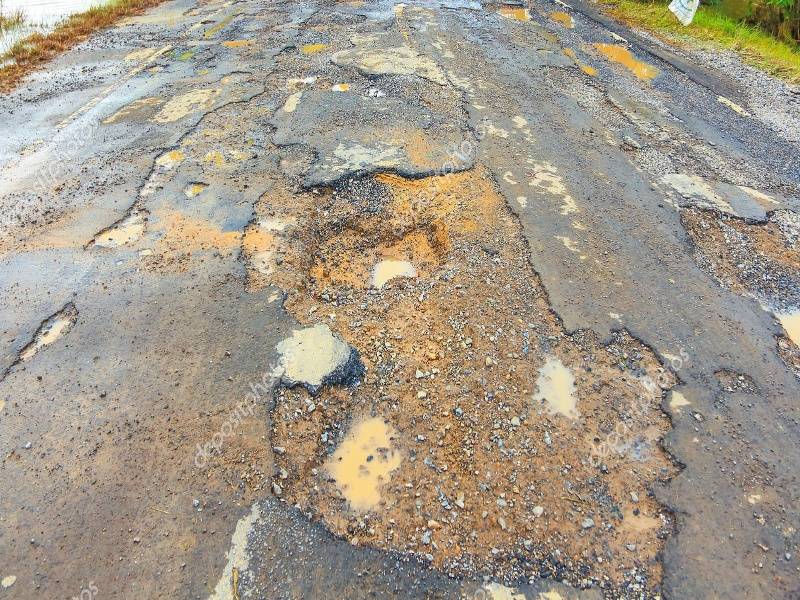pothole: (259, 337, 699, 593), (239, 160, 546, 327), (670, 188, 800, 310)
